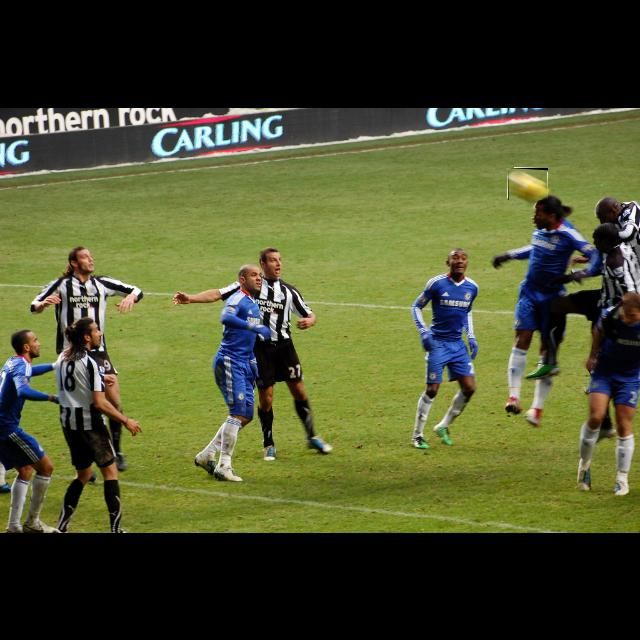Football: (508, 168, 548, 200)
